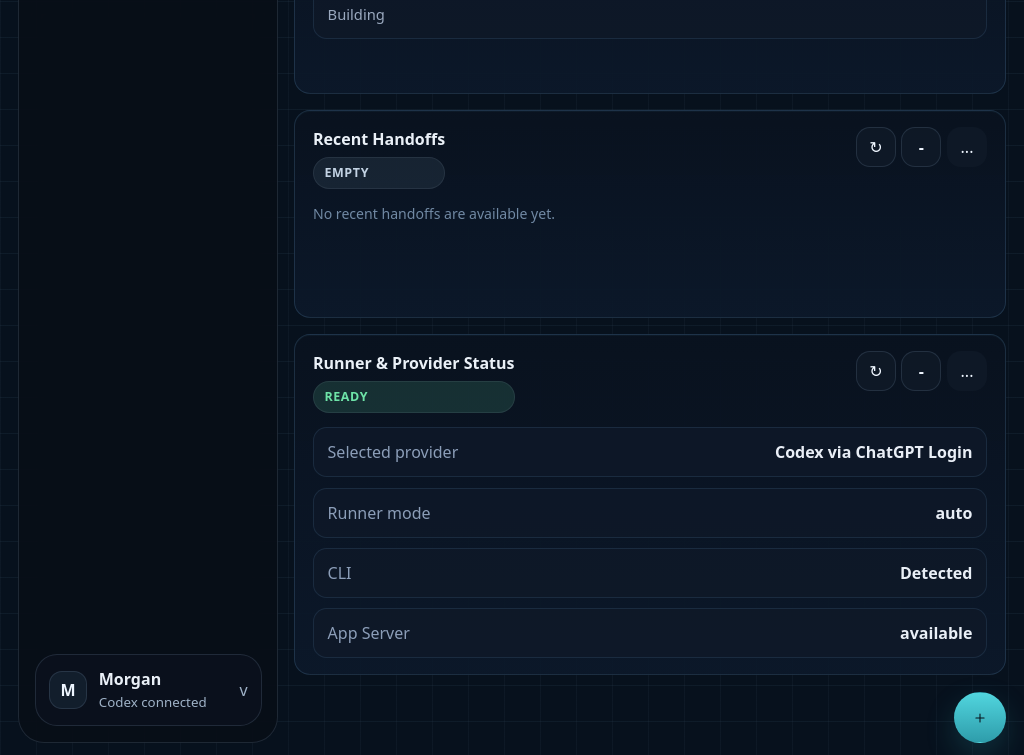
Test: command center pages › renders dashboard recent projects and opens the widget selector
(page scrolled)
expect the text "Runner & Provider Status" is shown: met, box [313,351,514,375]
Click the button named "Add widget".
click(980, 718)  # box [954,692,1006,743]
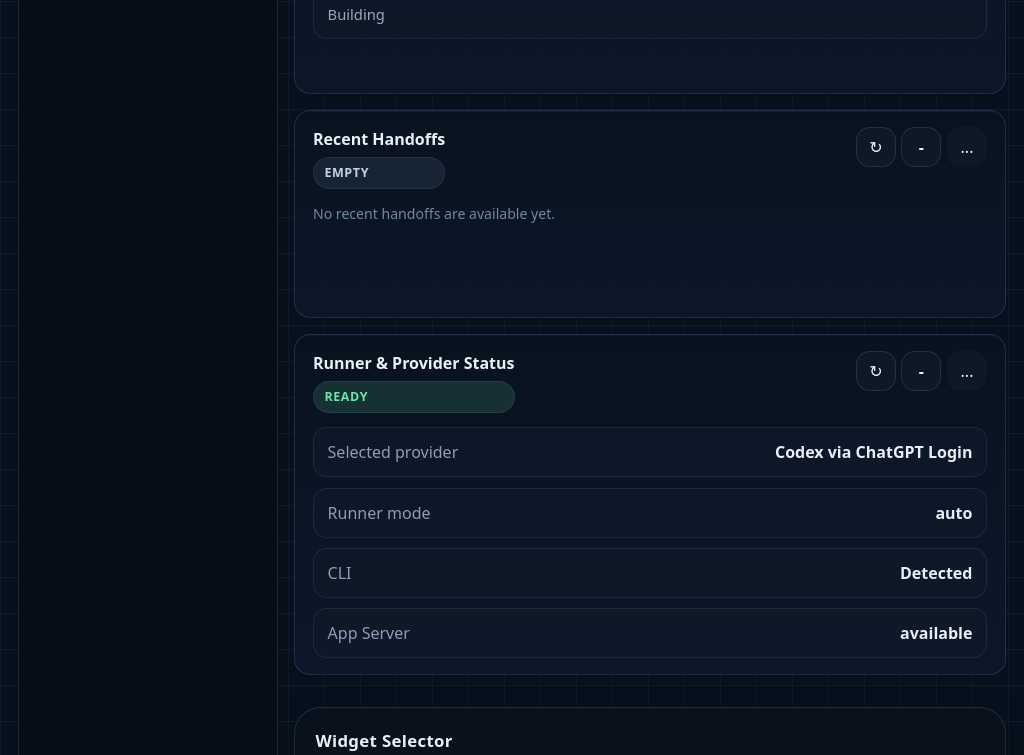
expect the heading "Widget Selector" is shown: met, box [315,729,453,752]
